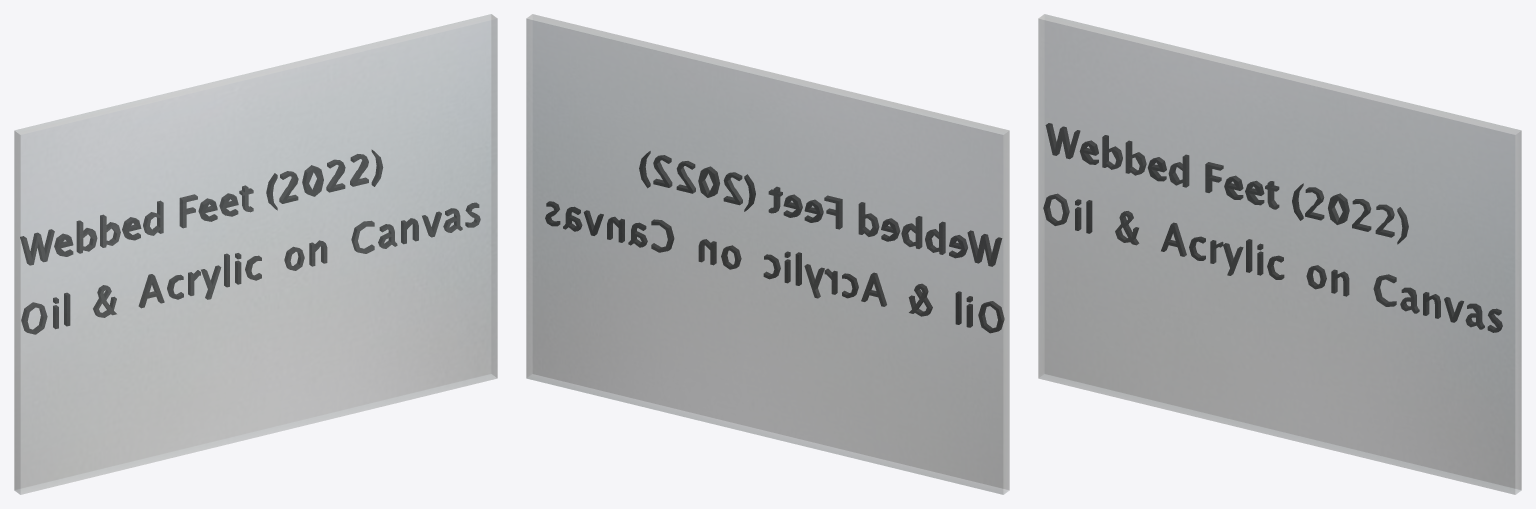
Rendered from Webbedfeetglassdisplayed.fbx.
3 views of the same model, side by side, from view 1: azimuth 30°, elevation 25°; view 2: azimuth 150°, elevation 25°; view 3: azimuth 330°, elevation 25° (orthographic).
Parts seen in each view (by area): view 1: glasspanel, typeMesh, typeMesh1; view 2: glasspanel, typeMesh, typeMesh1; view 3: glasspanel, typeMesh, typeMesh1.
Part boxes in pixels (x1=…): glasspanel: x1=14, y1=14, x2=497, y2=494; typeMesh: x1=20, y1=150, x2=382, y2=265; typeMesh1: x1=21, y1=202, x2=480, y2=334; glasspanel: x1=526, y1=14, x2=1009, y2=494; typeMesh: x1=639, y1=151, x2=1001, y2=266; typeMesh1: x1=545, y1=201, x2=1004, y2=333; glasspanel: x1=1038, y1=14, x2=1521, y2=494; typeMesh: x1=1045, y1=123, x2=1408, y2=244; typeMesh1: x1=1043, y1=193, x2=1502, y2=332.
Size of the model in its own units: 8.22 by 5.93 by 0.1877.
